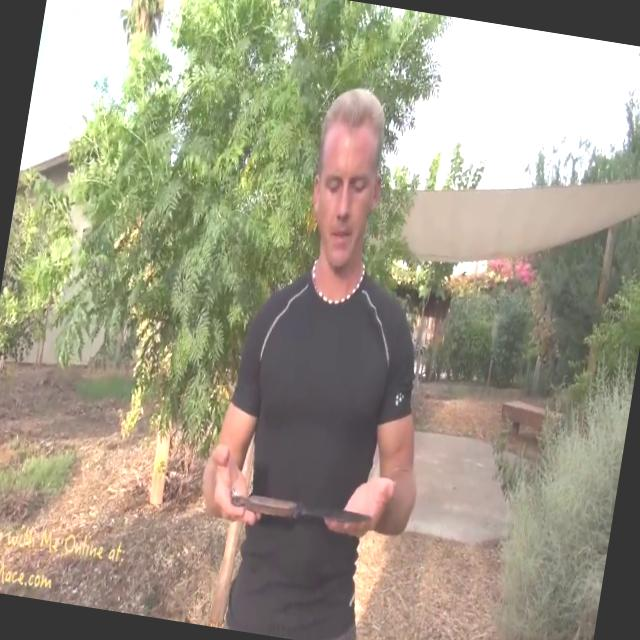knife: (223, 480, 384, 550)
